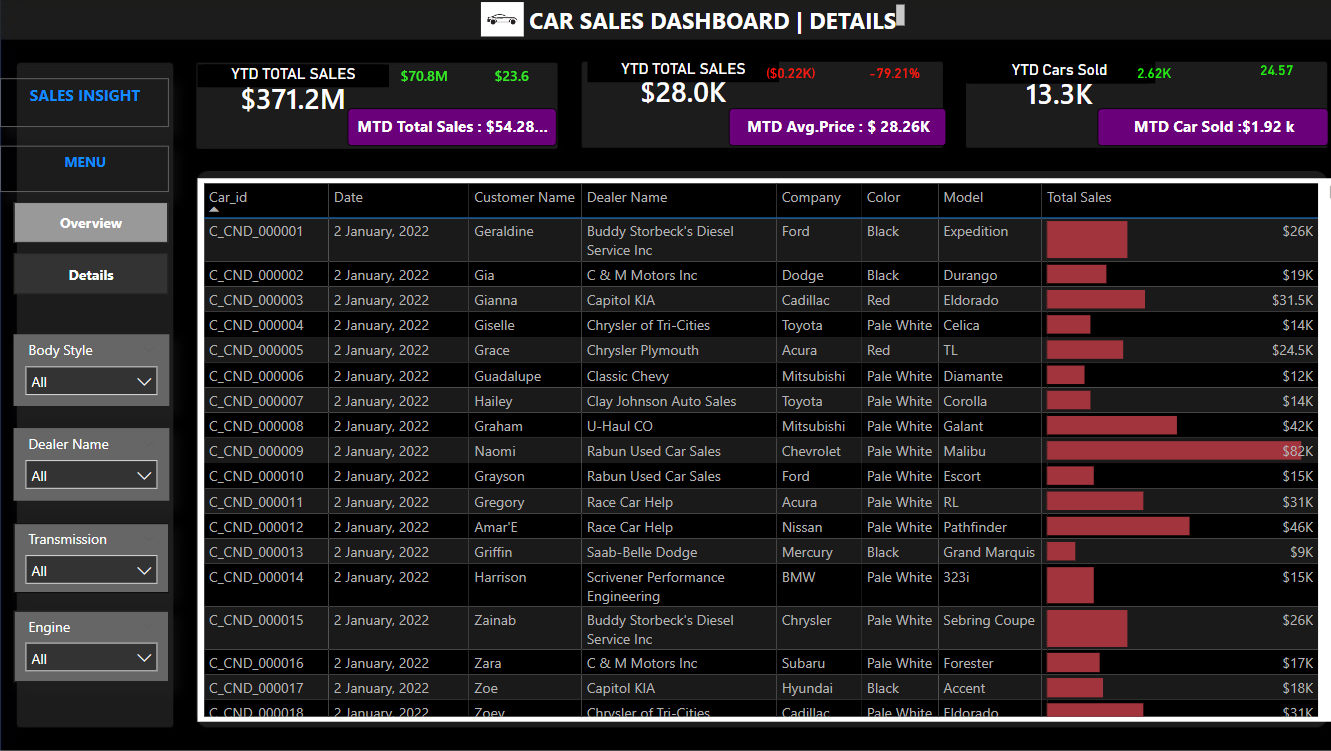

What the dashboard file says about the page in this screenshot:
{"tool":"powerbi","page":{"name":"Details","canvas":[1280,720],"ordinal":1},"visuals":[{"type":"card","title":"YTD TOTAL SALES","fields":{"Values":["car_data.YTD"]},"box":[188.1,64.3,182.1,50],"z":0},{"type":"card","fields":{"Values":["Calendar Table.Sales Difference"]},"box":[347.6,59.5,113.1,35.7],"z":1000},{"type":"card","fields":{"Values":["Calendar Table.YOY Sales"]},"box":[445.2,57.1,84.5,40.5],"z":2000},{"type":"card","fields":{"Values":["car_data.MTD_KPI"]},"box":[331,106,198.8,35.7],"z":3000},{"type":"card","title":"YTD TOTAL SALES","fields":{"Values":["car_data.YTD AVG PRICE"]},"box":[559.5,59.5,182.1,46.4],"z":4000},{"type":"card","fields":{"Values":["car_data.Average Sales Diff"]},"box":[703.6,56,98.8,35.7],"z":5000},{"type":"card","fields":{"Values":["car_data.YOY Average price Growth"]},"box":[802.4,56,98.8,35.7],"z":6000},{"type":"card","fields":{"Values":["car_data.Concatenate Avg sales MTD"]},"box":[694.1,106,207.1,35.7],"z":7000},{"type":"card","title":"YTD Cars Sold","fields":{"Values":["car_data.YTD Cars Sold"]},"box":[917.9,60.7,182.1,46.4],"z":8000},{"type":"card","fields":{"Values":["car_data.Car Sold Diff"]},"box":[1050,56,98.8,35.7],"z":9000},{"type":"card","fields":{"Values":["car_data.YOY Car Sold"]},"box":[1166.7,53.6,98.8,35.7],"z":10000},{"type":"card","fields":{"Values":["car_data.MTD CAR SOLD KPI"]},"box":[1045.2,106,220.2,35.7],"z":11000},{"type":"textbox","box":[460.7,2.4,406,40.5],"z":12000},{"type":"image","box":[445.2,0,66.7,42.9],"z":13000},{"type":"slicer","fields":{"Values":["car_data.Body Style"]},"box":[13.1,321.4,147.6,67.9],"z":14000},{"type":"slicer","fields":{"Values":["car_data.Dealer_Name"]},"box":[13.1,410.7,147.6,69],"z":15000},{"type":"slicer","fields":{"Values":["car_data.Transmission"]},"box":[13.1,501.2,147.6,66.7],"z":16000},{"type":"slicer","fields":{"Values":["car_data.Engine"]},"box":[13.1,584.5,147.6,67.9],"z":17000},{"type":"tableEx","fields":{"Values":["car_data.Car_id","car_data.Date","car_data.Customer Name","car_data.Dealer Name","car_data.Company","car_data.Color","car_data.Model","Sum(car_data.Price ($))"]},"box":[198.8,175,1081,515.5],"z":18000},{"type":"textbox","box":[0,77.4,160.7,46.4],"z":18001},{"type":"textbox","box":[0,141.7,160.7,44],"z":18002},{"type":"pageNavigator","box":[13.1,195.2,147.6,89.3],"z":18003}]}

Visuals, with their boxes on the page's 1280x720 design canvas (x1, y1, x2, y2). These are canvas units, not pixel positions in the 1331x751 screenshot, which may show the page scaled, cropped or inside an application window:
"YTD TOTAL SALES" card: detection(188, 64, 370, 114)
card - Calendar Table.Sales Difference: detection(348, 60, 461, 95)
card - Calendar Table.YOY Sales: detection(445, 57, 530, 98)
card - car_data.MTD_KPI: detection(331, 106, 530, 142)
"YTD TOTAL SALES" card: detection(560, 60, 742, 106)
card - car_data.Average Sales Diff: detection(704, 56, 802, 92)
card - car_data.YOY Average price Growth: detection(802, 56, 901, 92)
card - car_data.Concatenate Avg sales MTD: detection(694, 106, 901, 142)
"YTD Cars Sold" card: detection(918, 61, 1100, 107)
card - car_data.Car Sold Diff: detection(1050, 56, 1149, 92)
card - car_data.YOY Car Sold: detection(1167, 54, 1266, 89)
card - car_data.MTD CAR SOLD KPI: detection(1045, 106, 1265, 142)
textbox: detection(461, 2, 867, 43)
image: detection(445, 0, 512, 43)
slicer - car_data.Body Style: detection(13, 321, 161, 389)
slicer - car_data.Dealer_Name: detection(13, 411, 161, 480)
slicer - car_data.Transmission: detection(13, 501, 161, 568)
slicer - car_data.Engine: detection(13, 584, 161, 652)
tableEx - car_data.Car_id x car_data.Date: detection(199, 175, 1280, 690)
textbox: detection(0, 77, 161, 124)
textbox: detection(0, 142, 161, 186)
pageNavigator: detection(13, 195, 161, 284)
